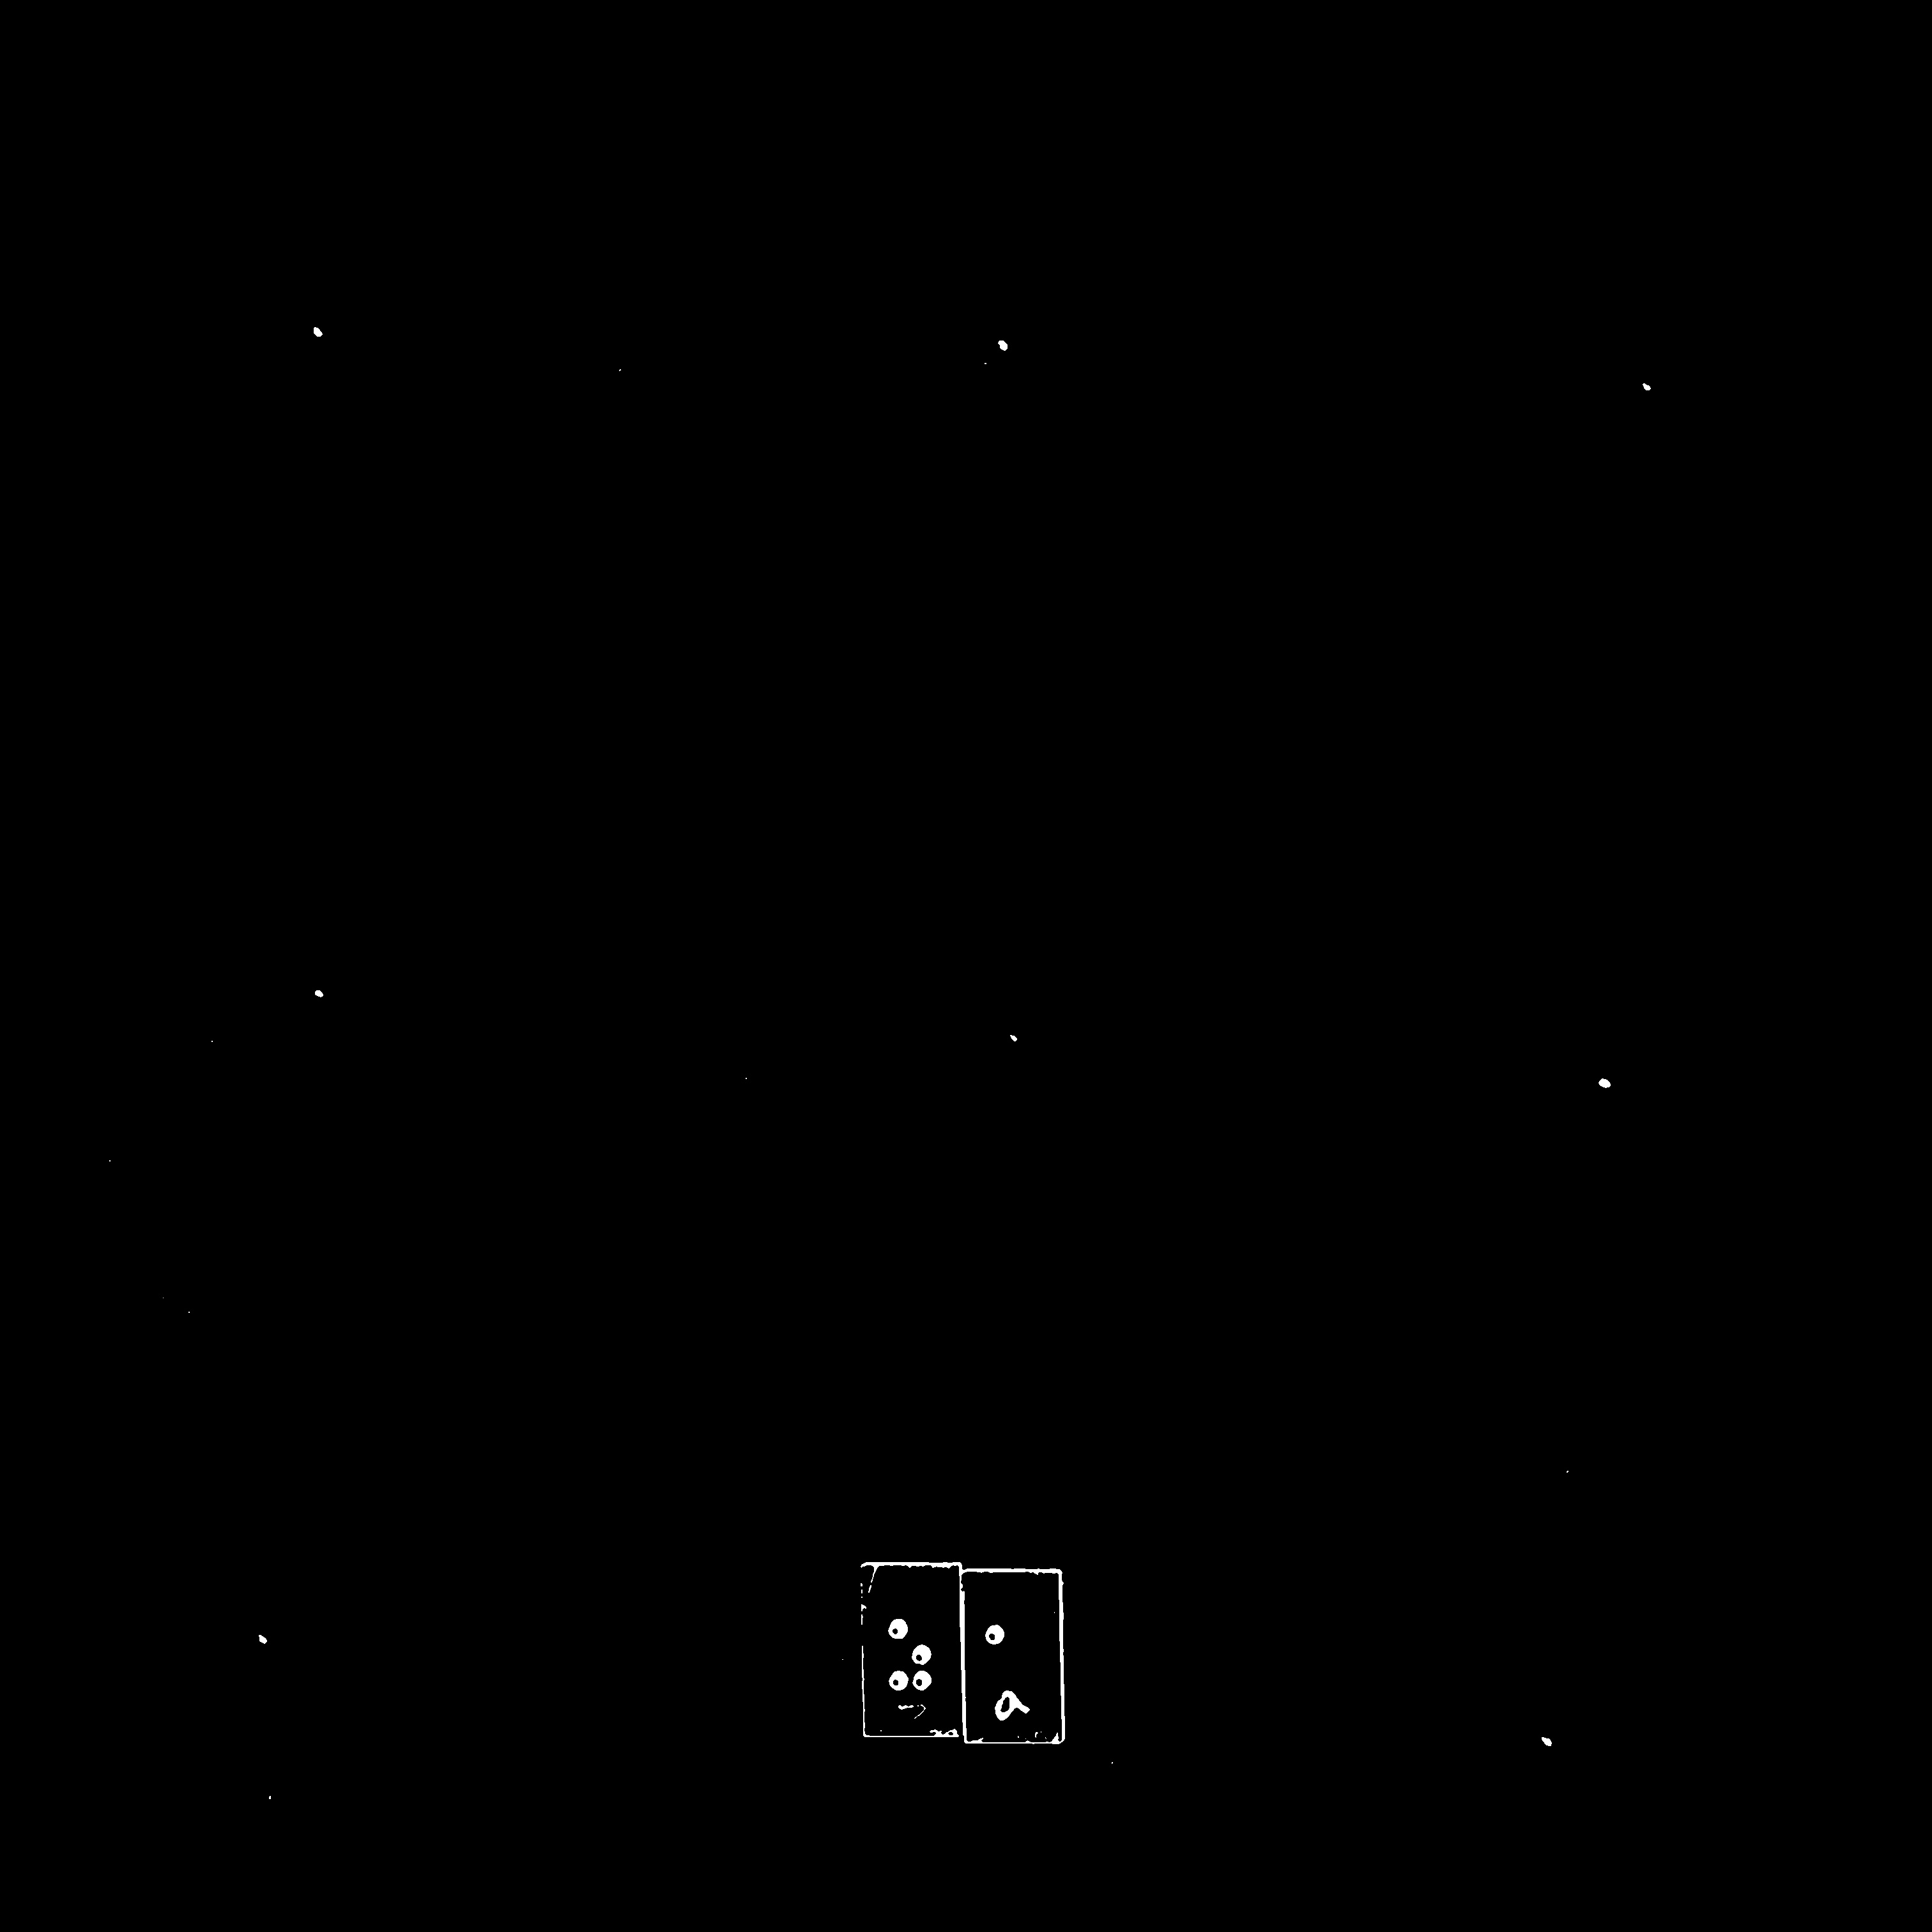a: (975, 1607, 1044, 1697)
z: (880, 1607, 947, 1706)
